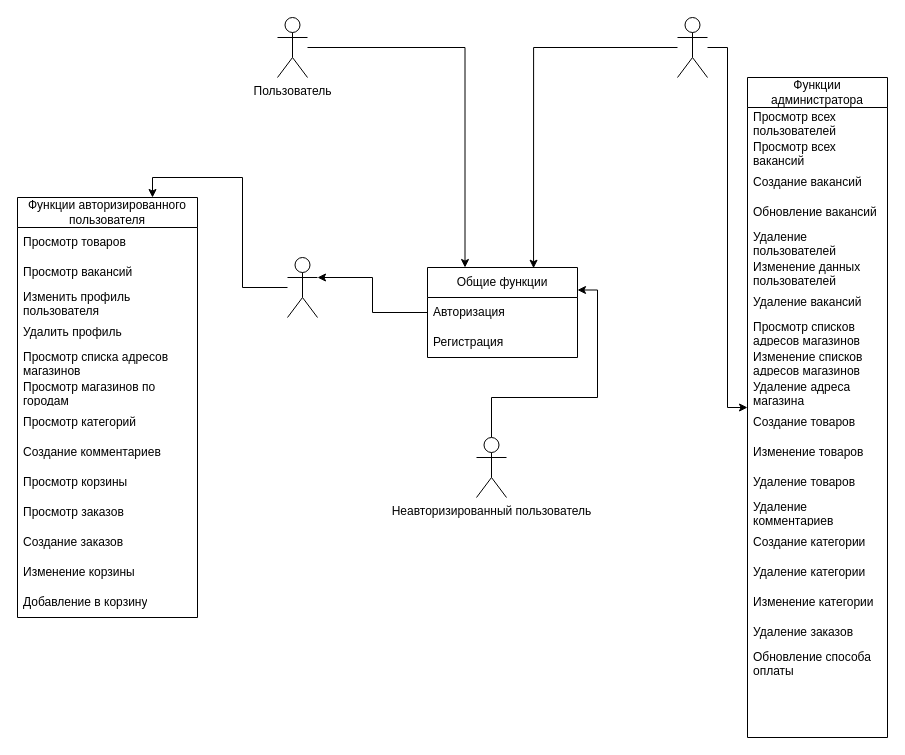
Image size: 905x755. Some labels were removed from this diagram. The shapes that lost their labels are listed below. From the top down, each one's centre as x and y in pixels, then its label:
At (x=692, y=47): "Админ".
At (x=302, y=287): "Авторизированный пользователь".
